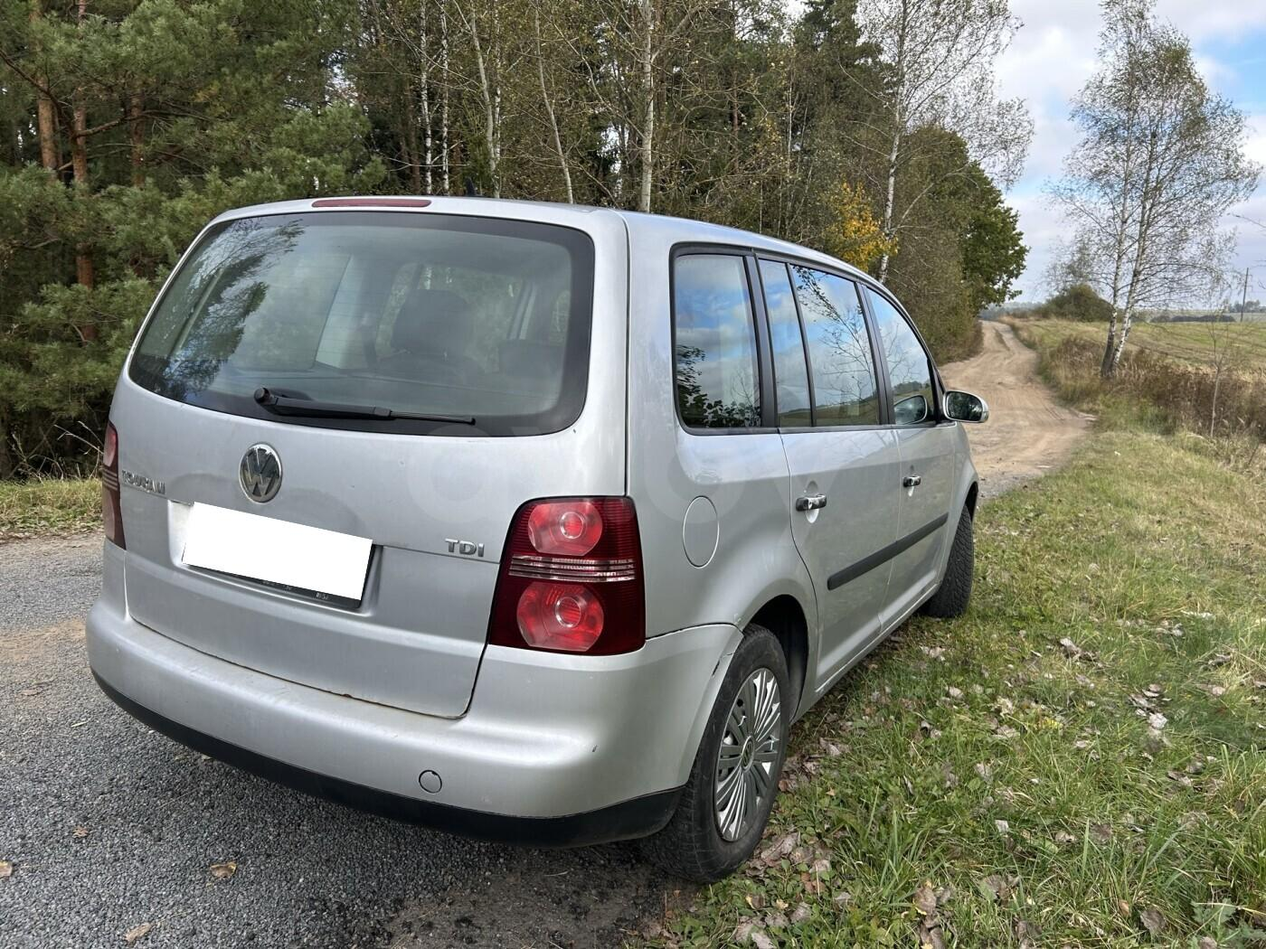Touran_2003-2006: (85, 191, 987, 872)
